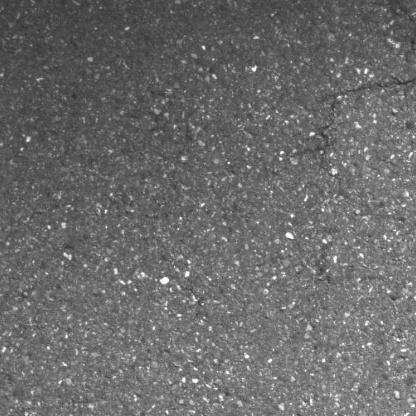Cracks: (290, 0, 416, 185)
